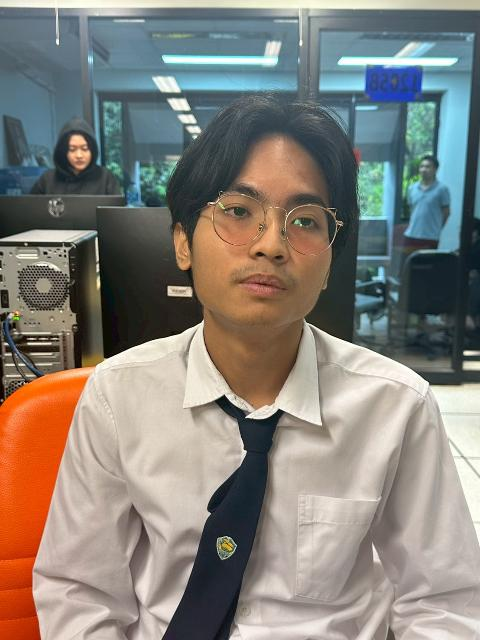fokus: (191, 98, 341, 335)
